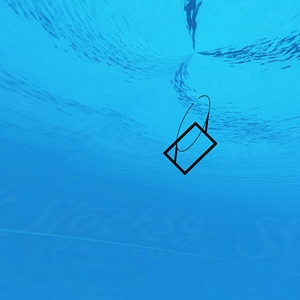circle: (163, 95, 217, 178)
